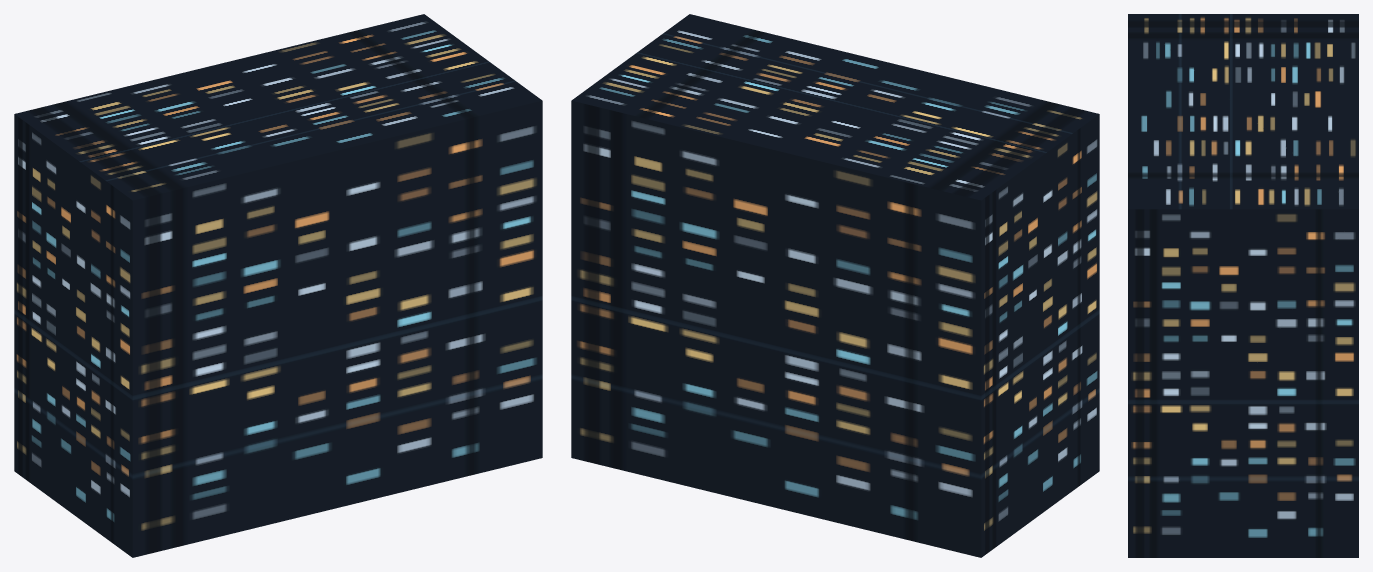
Rendered from building-wide.glb.
3 views of the same model, side by side, from view 1: azimuth 30°, elevation 25°; view 2: azimuth 150°, elevation 25°; view 3: azimuth 270°, elevation 25° (orthographic). The views are drawn at different scales.
Visible parts, largest first — view 1: building; view 2: building; view 3: building.
Part boxes in pixels (box(x1,y1,x2,y2)): building: box(14, 14, 542, 557); building: box(571, 14, 1099, 557); building: box(1128, 14, 1358, 557).
Bounding box in the file's own units: 12 × 10 × 6.
Materials: 1 (1 with a texture image).
